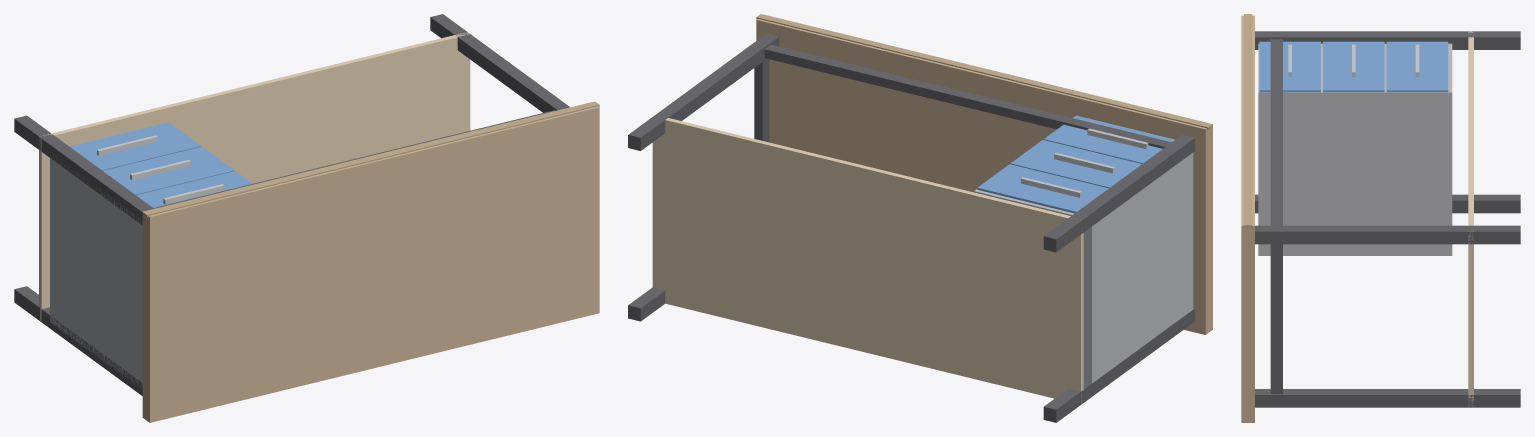
File: workbench.glb
The picture shows the model from 3 angles, left to right: view 1: azimuth 30°, elevation 25°; view 2: azimuth 150°, elevation 25°; view 3: azimuth 270°, elevation 25°; orthographic projection. The views are drawn at different scales.
Parts seen in each view (by area): view 1: wood, plywood, plastic_gray, metal_black, plastic_blue, seam, steel; view 2: plywood, wood, plastic_gray, metal_black, plastic_blue, seam, steel; view 3: plastic_gray, metal_black, plastic_blue, wood, plywood, seam, steel.
Boxes of the visible parts, x1,y1,x2,y2 form: wood: [142, 102, 599, 422]; plywood: [39, 32, 470, 321]; plastic_gray: [50, 154, 142, 387]; metal_black: [14, 14, 569, 395]; plastic_blue: [70, 122, 252, 207]; seam: [142, 101, 599, 217]; steel: [97, 135, 224, 204]; plywood: [652, 118, 1083, 404]; wood: [756, 14, 1212, 334]; plastic_gray: [974, 152, 1193, 383]; metal_black: [628, 33, 1194, 422]; plastic_blue: [977, 115, 1174, 213]; seam: [756, 14, 1212, 129]; steel: [1021, 128, 1148, 197]; plastic_gray: [1258, 43, 1452, 255]; metal_black: [1255, 31, 1520, 407]; plastic_blue: [1259, 41, 1448, 92]; wood: [1241, 15, 1254, 422]; plywood: [1468, 31, 1473, 406]; seam: [1244, 14, 1252, 227]; steel: [1288, 44, 1419, 76].
Bounding box in the file's own units: 1.61 × 0.704 × 0.9.
